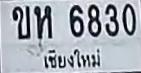0: (122, 3, 135, 35)
3: (104, 3, 118, 36)
6: (69, 4, 83, 36)
8: (87, 3, 100, 36)
A02: (11, 6, 29, 38)
A41: (33, 4, 51, 38)
CMI: (41, 47, 103, 71)
